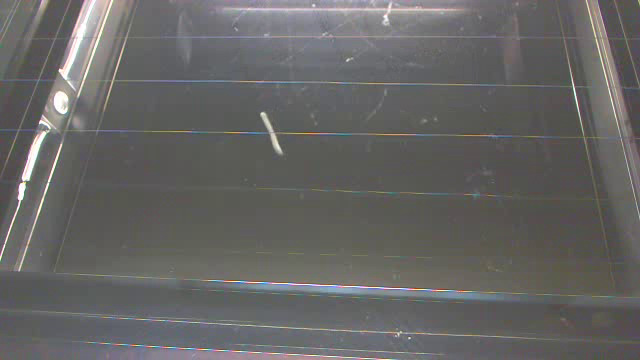alpha: (256, 109, 286, 160)
